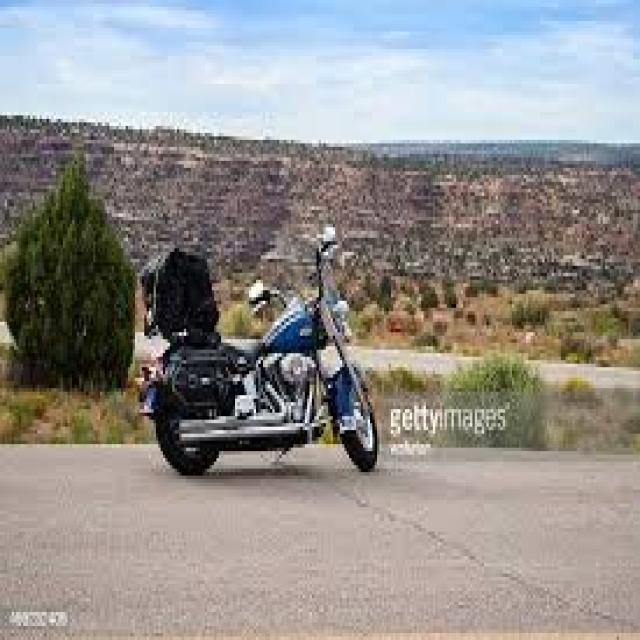Bike: (131, 227, 380, 477)
